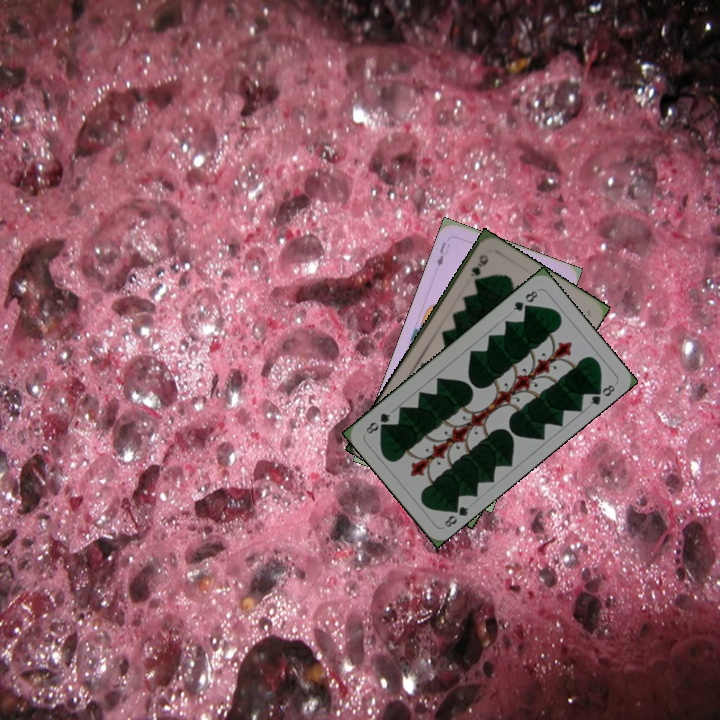EU: (432, 238, 453, 269)
G8: (440, 499, 472, 530), (509, 286, 541, 314)
G9: (467, 250, 491, 279)
